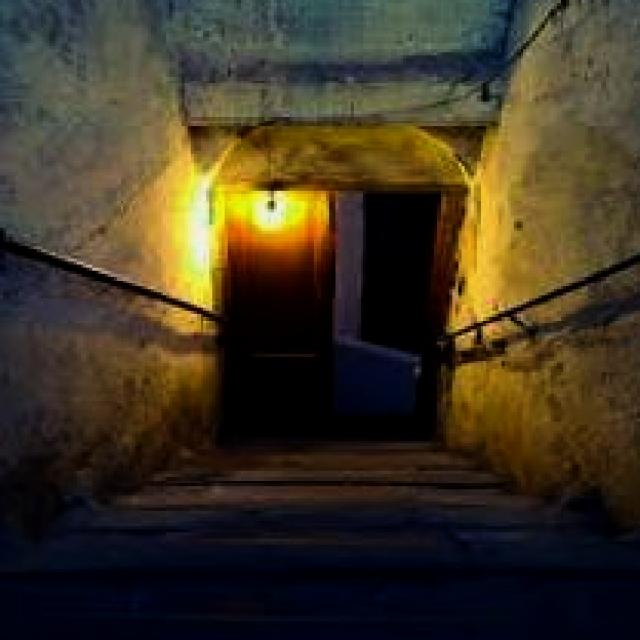downstair: (53, 450, 601, 598)
